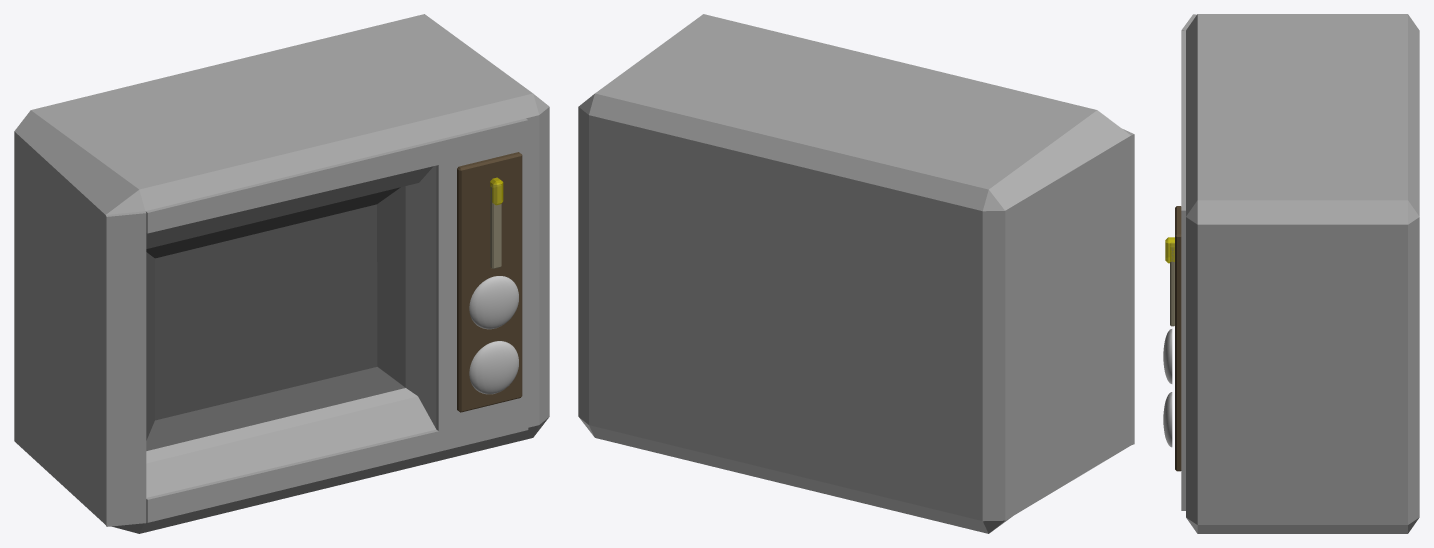
File: TV future.fbx
3 views of the same model, side by side, from view 1: azimuth 30°, elevation 25°; view 2: azimuth 150°, elevation 25°; view 3: azimuth 270°, elevation 25° (orthographic). The views are drawn at different scales.
Parts seen in each view (by area): view 1: pasted__pCube6; view 2: pasted__pCube6; view 3: pasted__pCube6.
Part boxes in pixels (<box>): pasted__pCube6: <box>14,14,549,533</box>; pasted__pCube6: <box>578,14,1134,533</box>; pasted__pCube6: <box>1163,14,1419,533</box>.
Bounding box in the file's own units: 35.95 × 26.57 × 18.5.
